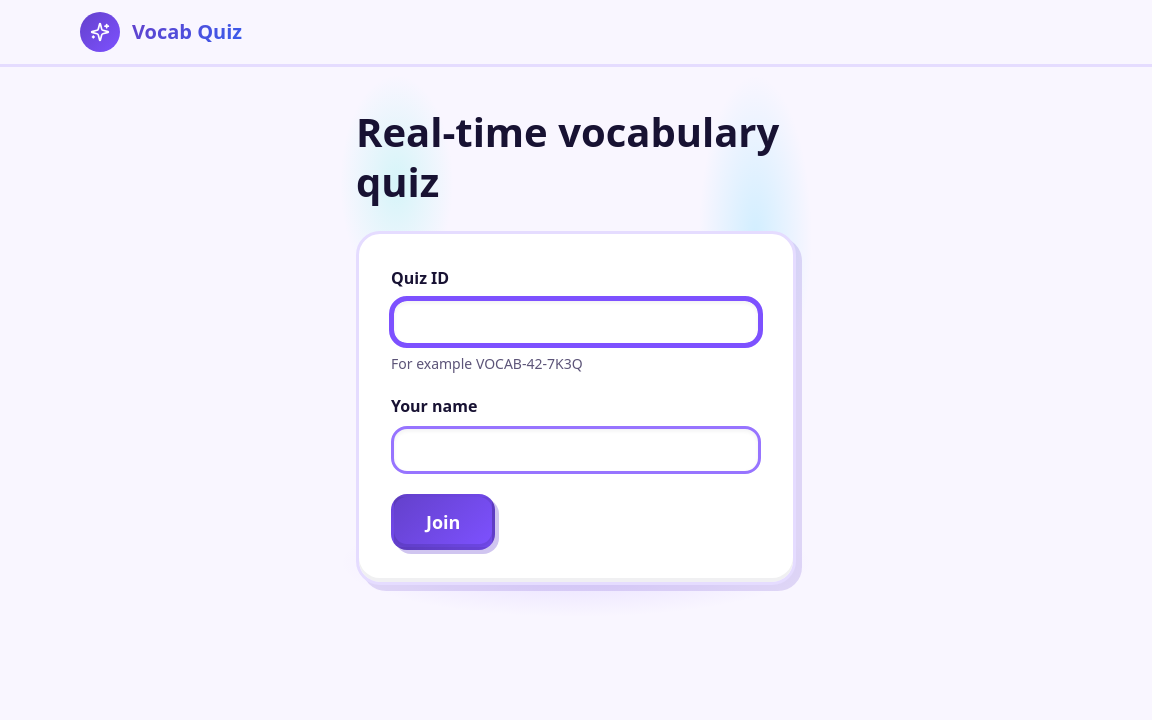
Test: hides the icons of the preview card and of a field message from assistive tech
In the field labelled "Quiz ID": (576, 322) [391,298,761,346], type "VOCAB-42"
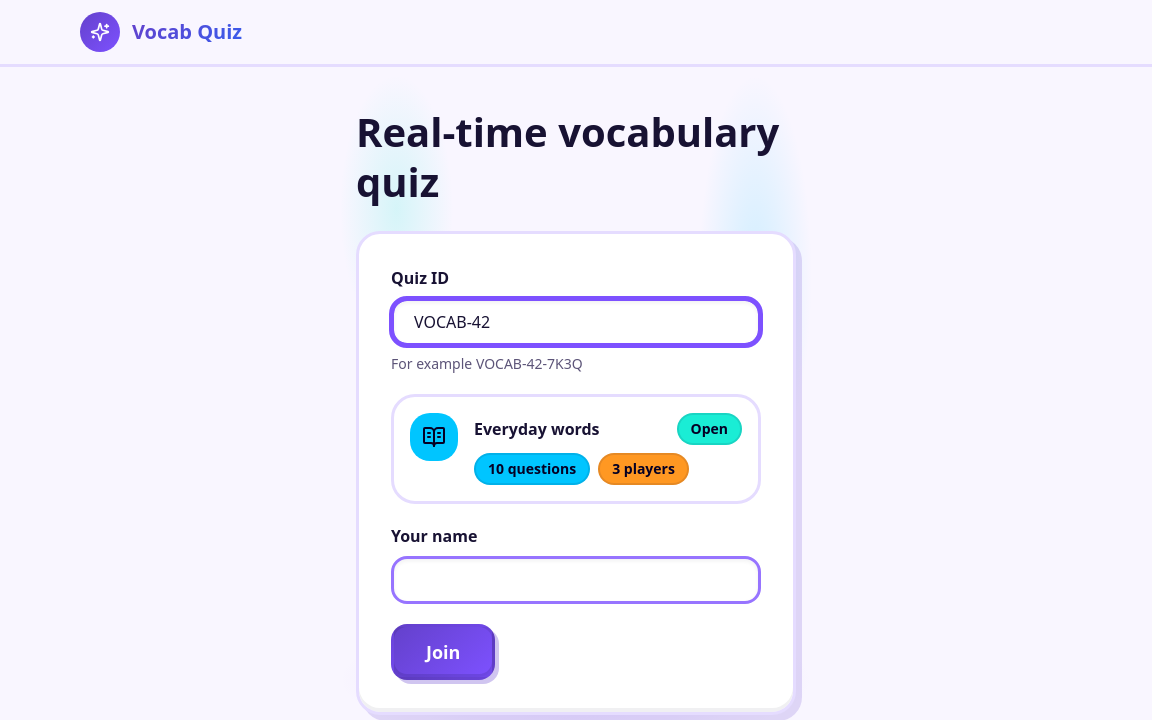
Submit the form, box [391,266,761,680]
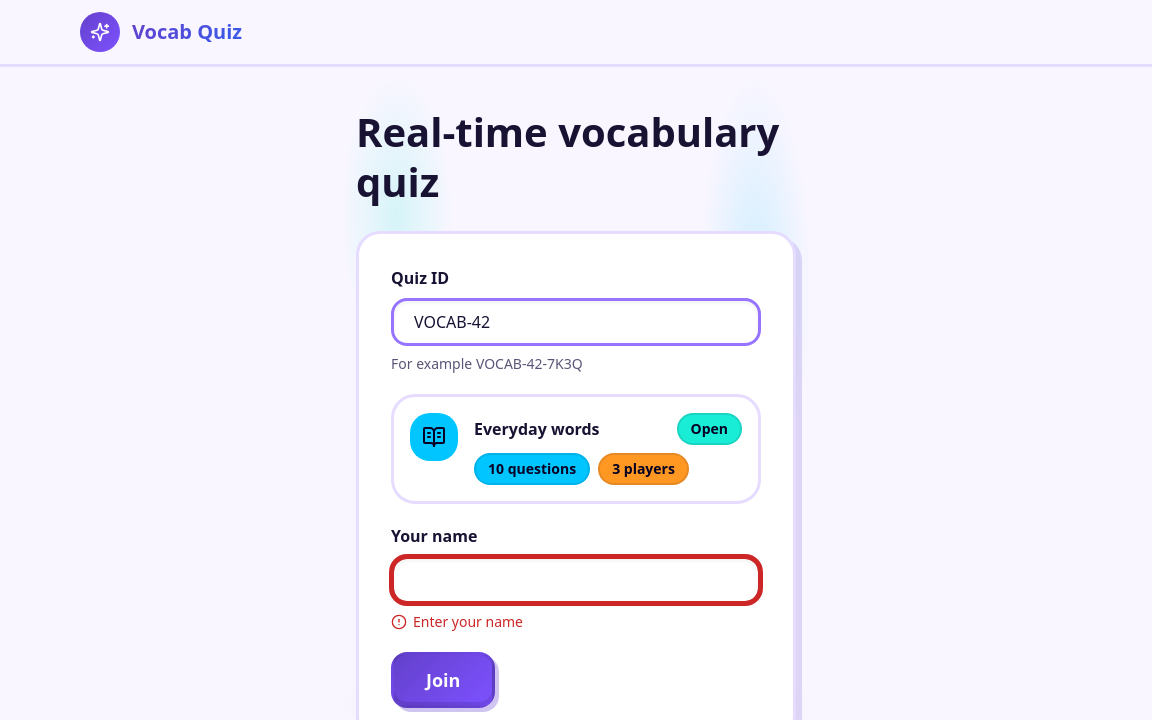
Now the icon next to "Enter your name" is shown, box [391,614,407,630]
